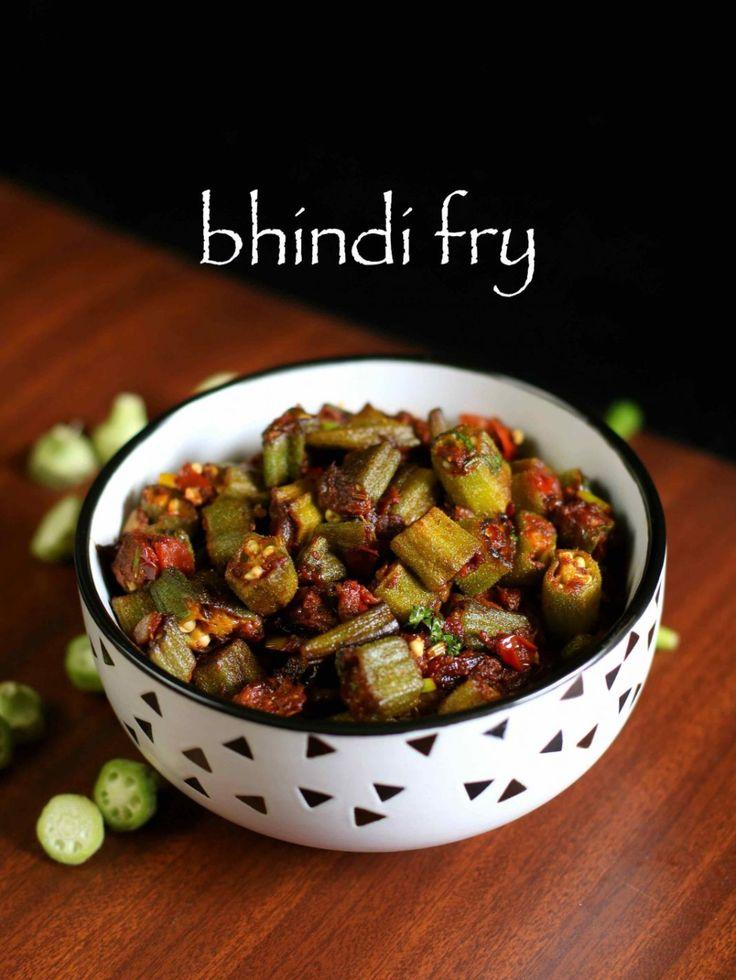bhindi: (157, 412, 616, 704)
